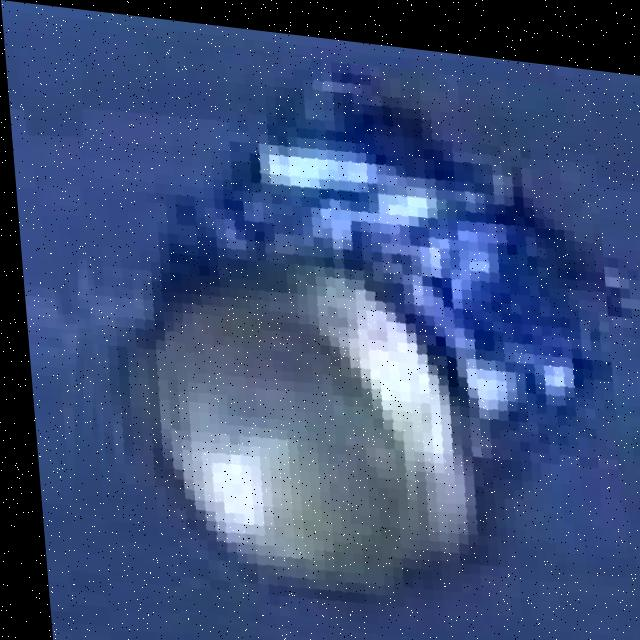can: (67, 49, 612, 629)
